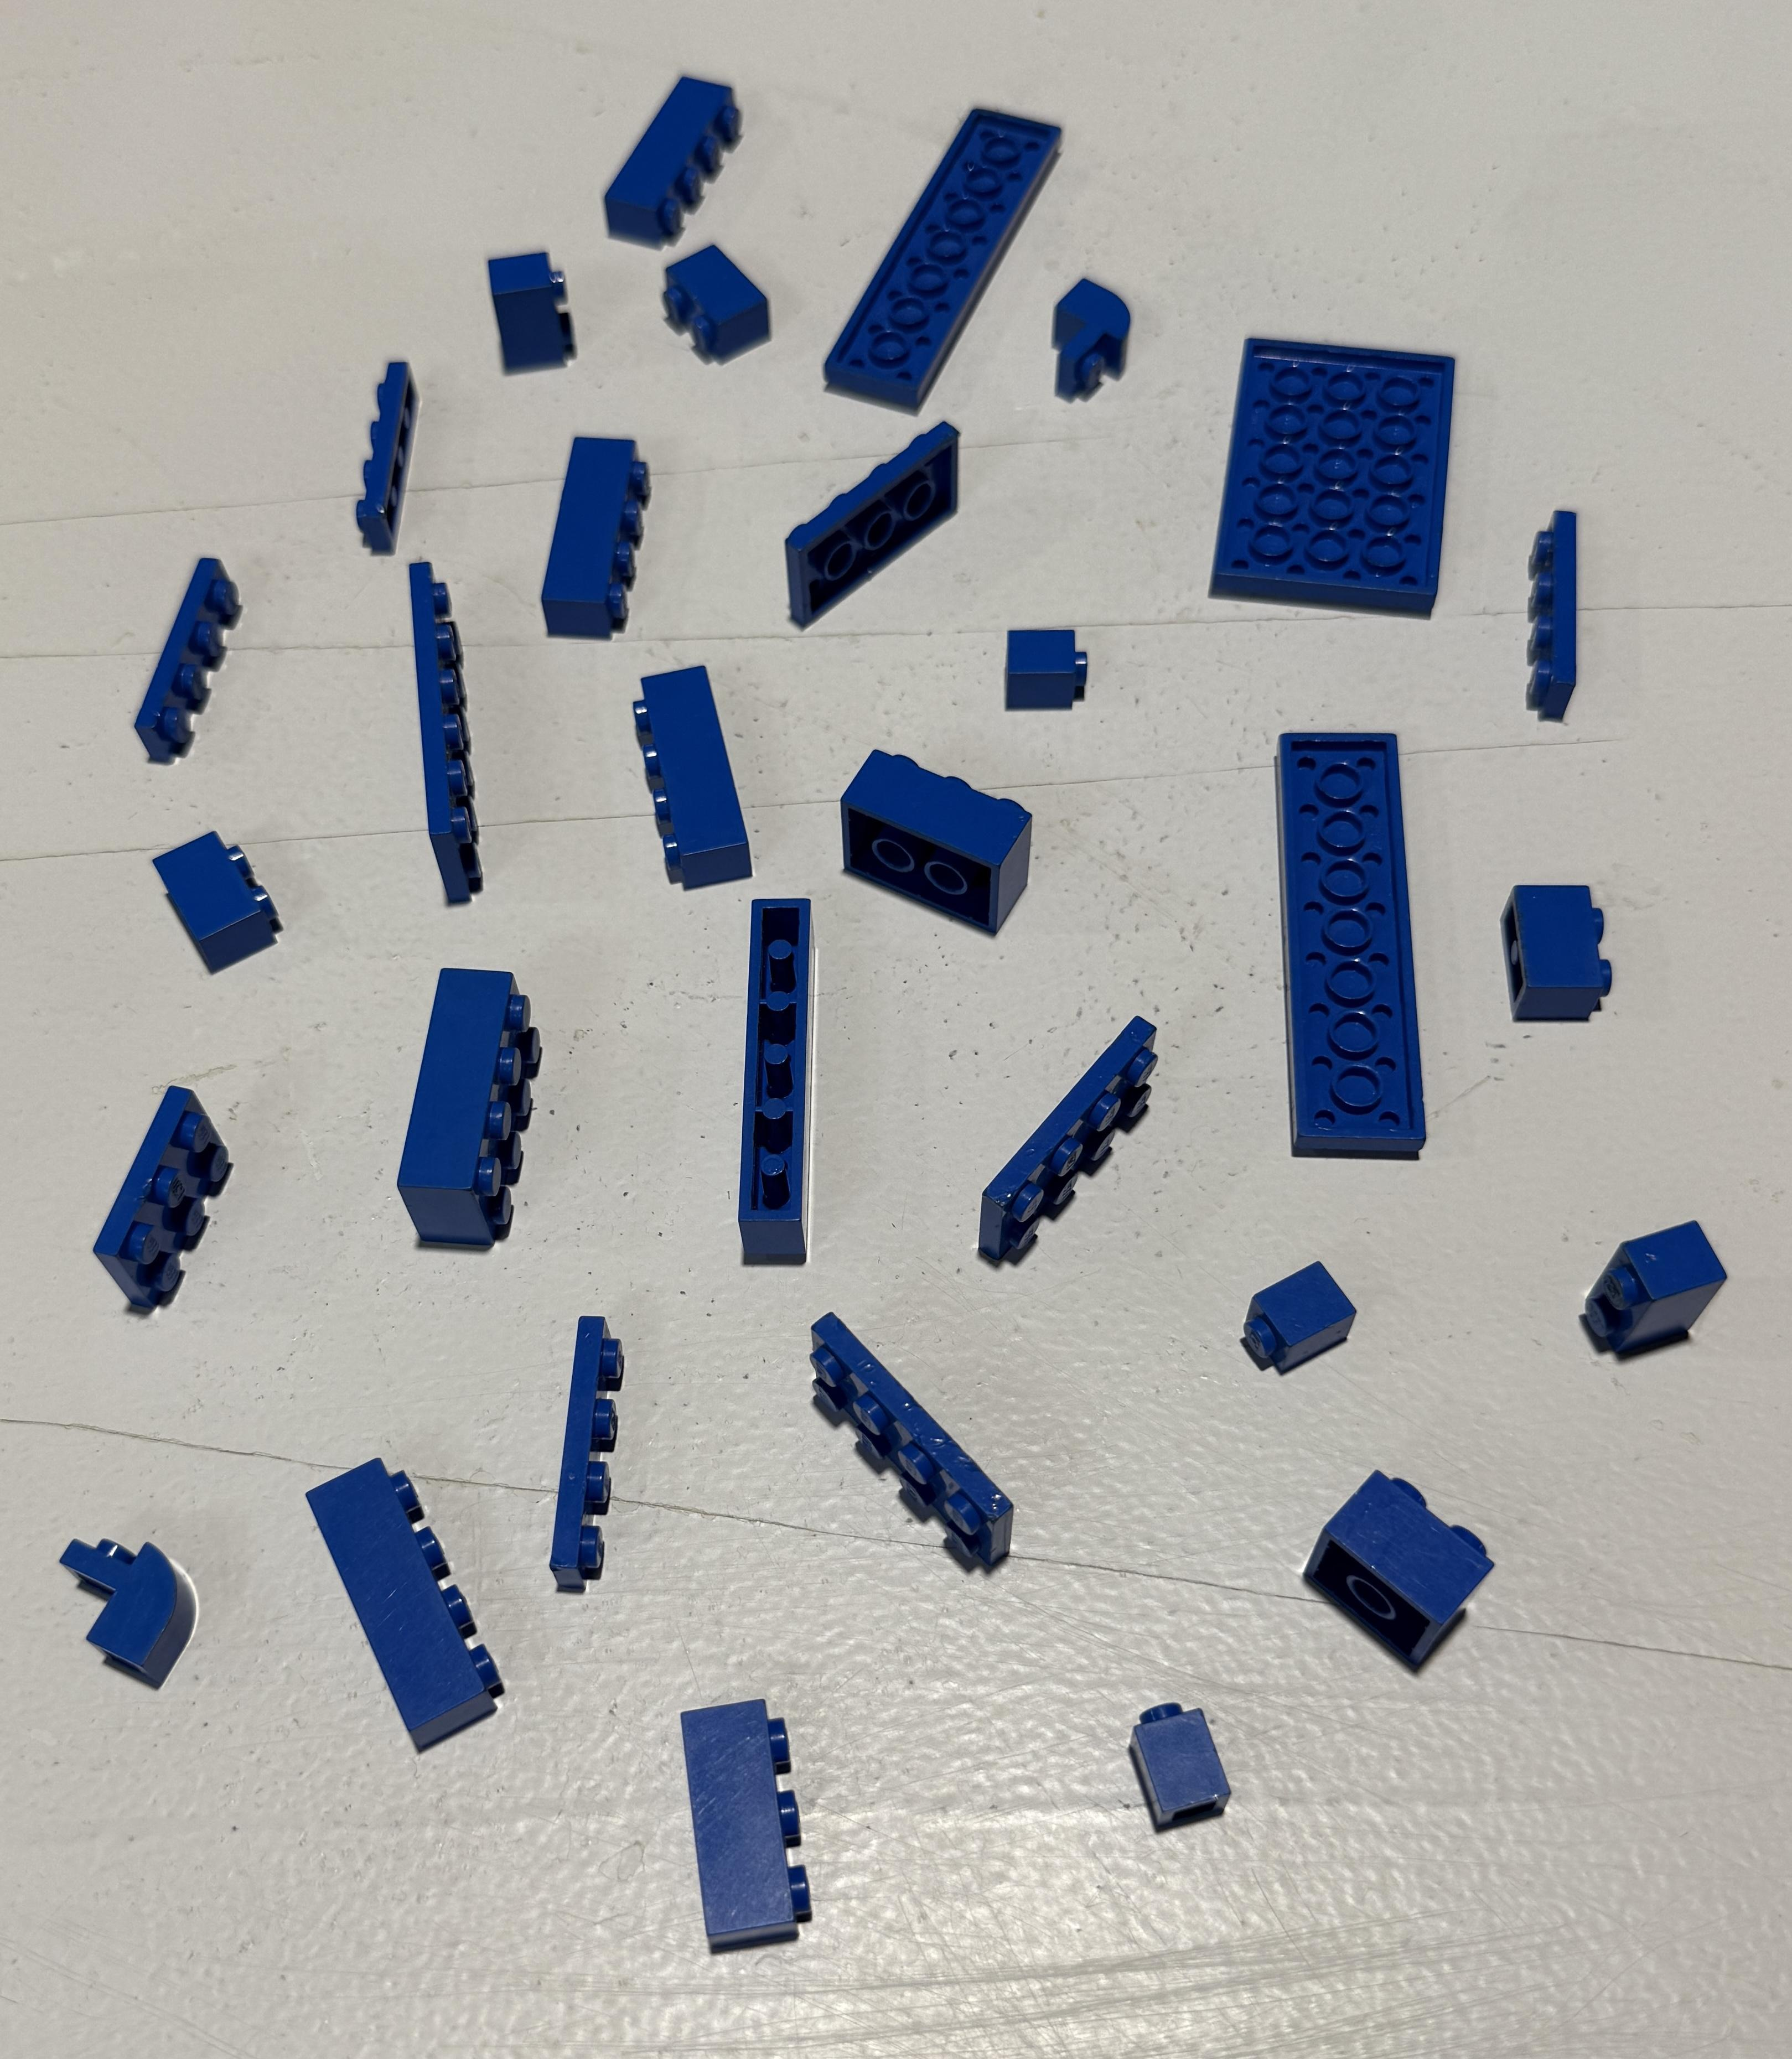brick_1x1: (1223, 1247, 1375, 1390), (1118, 1677, 1240, 1849), (997, 615, 1105, 727)
brick_1x2: (1575, 1201, 1732, 1376), (149, 819, 298, 987), (1491, 867, 1631, 1042), (650, 236, 785, 382), (482, 233, 594, 390)
brick_1x3: (667, 1681, 830, 1959)
brick_1x4: (300, 1439, 515, 1761), (617, 643, 762, 900), (592, 51, 769, 257), (531, 422, 655, 651)
brick_1x6: (727, 881, 827, 1275)
brick_2x2: (1288, 1448, 1510, 1690)
brick_2x3: (829, 728, 1039, 945)
brick_2x4: (385, 952, 564, 1264)
plate_1x4: (110, 504, 259, 779), (529, 1289, 641, 1611), (321, 322, 448, 564), (1505, 488, 1610, 739)
plate_2x3: (75, 1056, 252, 1332)
plate_2x4: (788, 1290, 1032, 1586), (955, 1003, 1186, 1271)
plate_6x4: (1189, 285, 1484, 634)
plate_8x2: (1240, 686, 1464, 1201), (801, 56, 1088, 434)
special_05: (39, 1500, 233, 1721), (1035, 250, 1158, 415)
